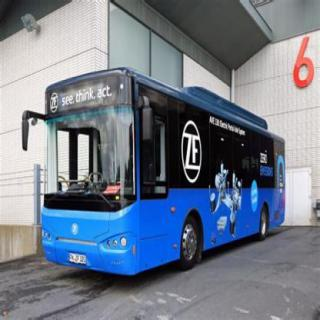Normal_vehicle: (22, 57, 290, 280)
